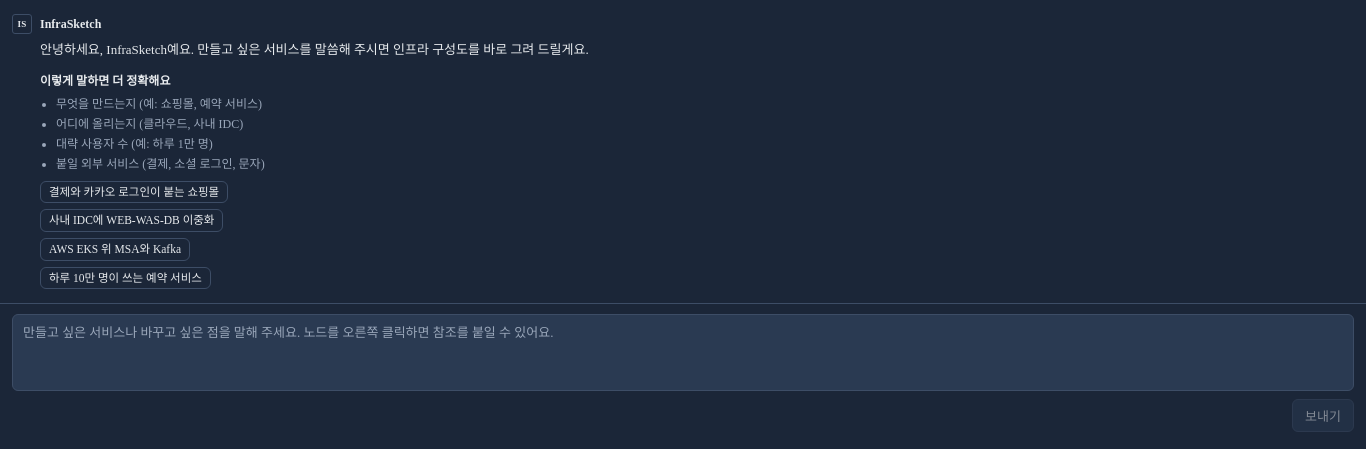
Test: chip fills the input without sending
Click the button "AWS EKS 위 MSA와 Kafka": click(115, 249) 40,238 -> 190,261
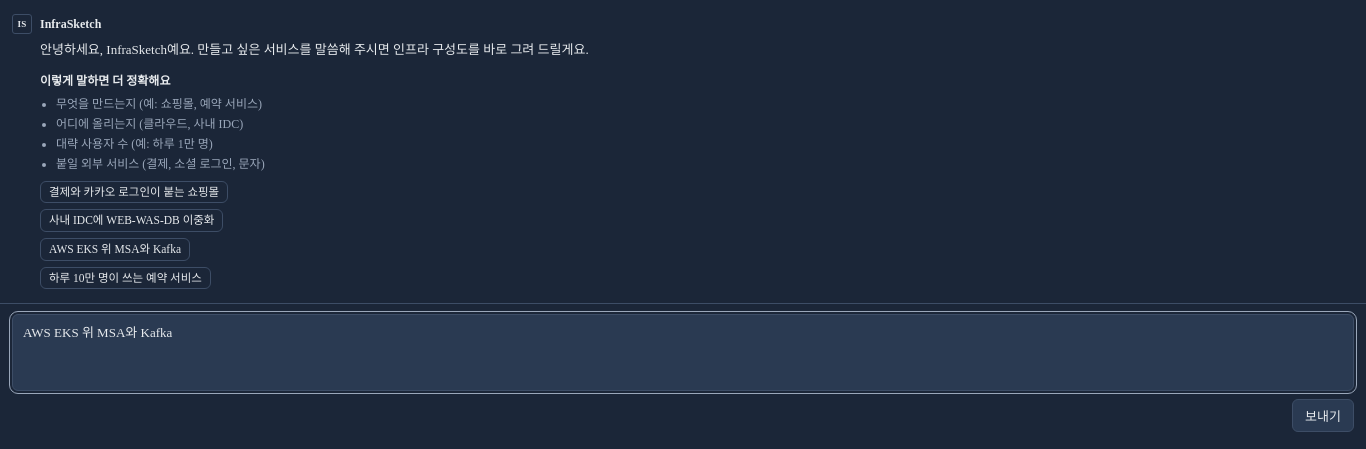
Expected: the text box holds "AWS EKS 위 MSA와 Kafka", 12,314 -> 1354,391
Expected: the button "보내기" is enabled, 1292,399 -> 1354,432
